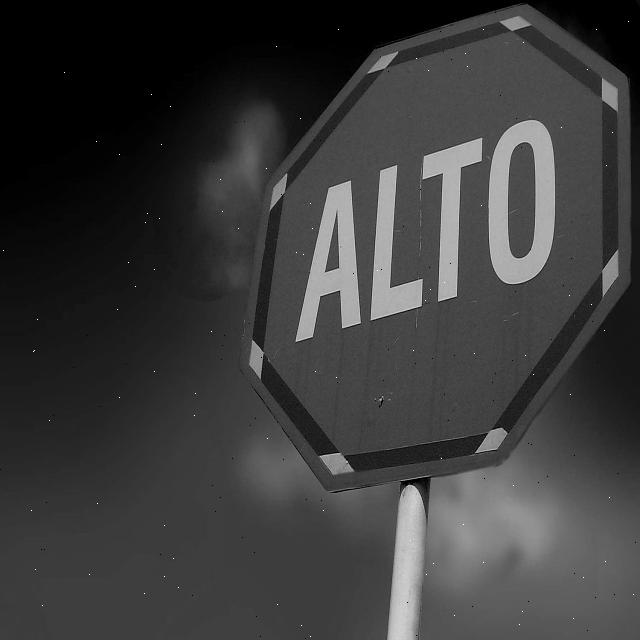Stop-sign: (227, 0, 640, 515)
